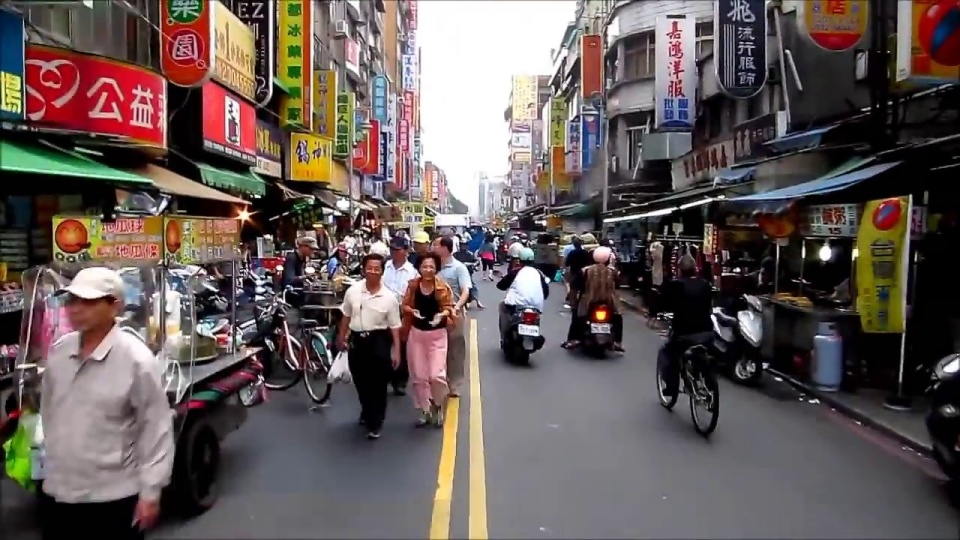person_head: (59, 267, 126, 336), (359, 252, 385, 283), (416, 254, 441, 280), (294, 232, 319, 257), (384, 237, 408, 261), (429, 236, 454, 258), (407, 228, 429, 252), (675, 256, 697, 279), (590, 244, 612, 267), (330, 238, 348, 259), (516, 247, 536, 265), (505, 242, 525, 258), (457, 238, 471, 251), (483, 230, 494, 243)
person_vbox: (39, 266, 175, 540), (325, 249, 404, 440), (398, 249, 456, 430), (645, 251, 716, 397), (426, 232, 474, 401), (378, 231, 421, 395), (496, 245, 552, 347), (576, 241, 626, 354), (282, 231, 325, 300), (455, 233, 484, 311), (327, 234, 351, 285), (478, 228, 498, 282)
